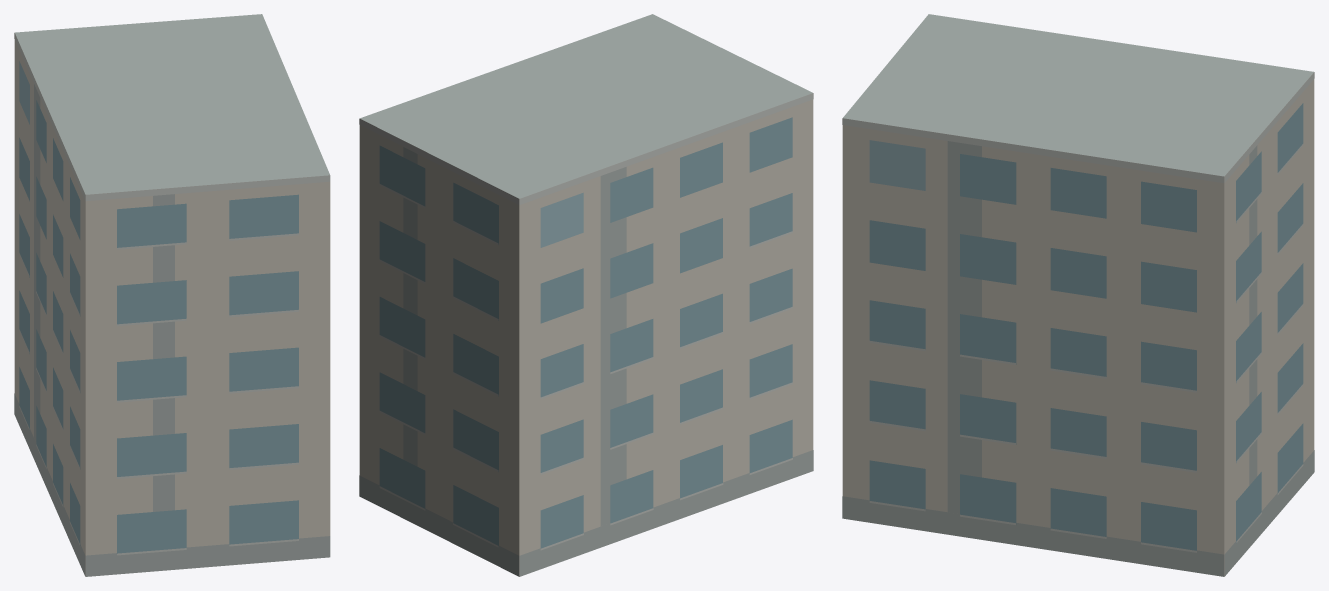
File: survey-upis-32890925.glb
3 views of the same model, side by side, from view 1: azimuth 30°, elevation 25°; view 2: azimuth 150°, elevation 25°; view 3: azimuth 270°, elevation 25° (orthographic). The views are drawn at different scales.
Parts seen in each view (by area): view 1: survey-upis-32890925.tmp; view 2: survey-upis-32890925.tmp; view 3: survey-upis-32890925.tmp.
Boxes of the visible parts, box(x1,y1,x2,y2) form: survey-upis-32890925.tmp: box(14, 14, 330, 576); survey-upis-32890925.tmp: box(359, 14, 813, 576); survey-upis-32890925.tmp: box(842, 14, 1314, 576).
Bounding box in the file's own units: 12.62 × 14.49 × 15.49.
